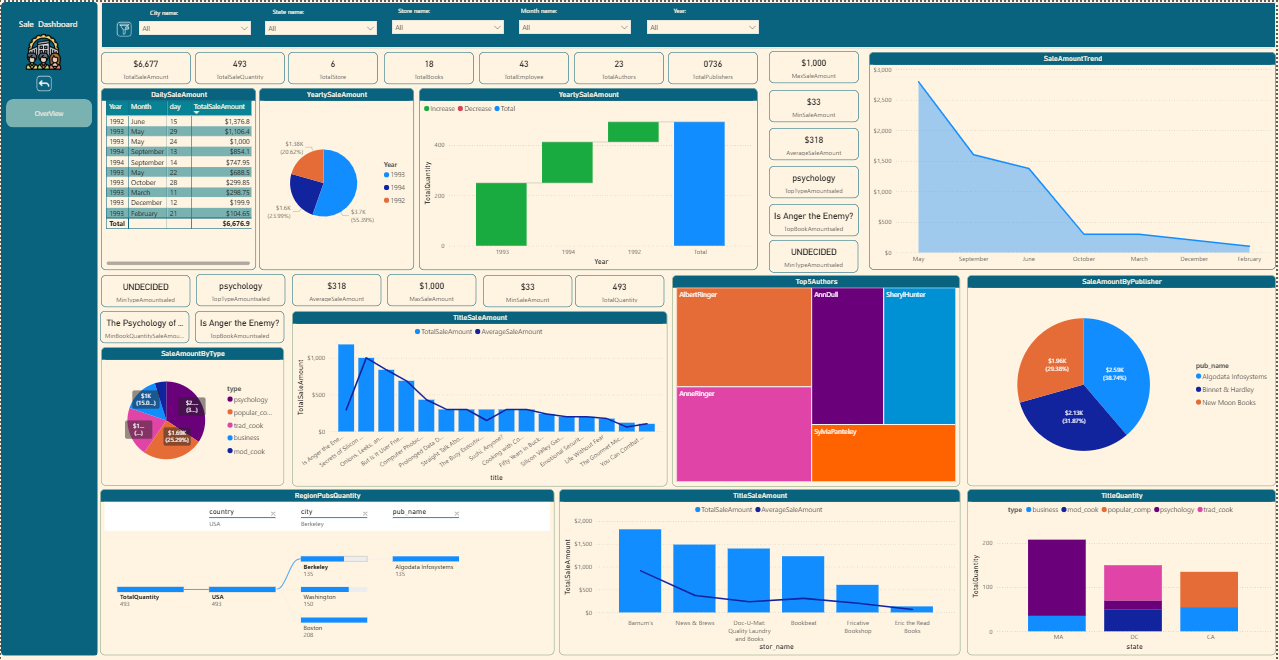

This screenshot's page, from the dashboard's own definition file:
{"tool":"powerbi","page":{"name":"OverView","canvas":[2500,1300],"ordinal":0},"visuals":[{"type":"shape","box":[196,0,2304,91],"z":0},{"type":"shape","box":[0,0,189.7,1282.1],"z":1000},{"type":"image","box":[221,34,40,40],"z":2000},{"type":"image","box":[50.6,139.8,67.5,41],"z":3000},{"type":"textbox","box":[27,27,135,52],"z":4000},{"type":"image","box":[33.7,56.6,100,81.9],"z":5000},{"type":"pageNavigator","box":[10,190,169.1,56.4],"z":6000},{"type":"textbox","box":[221,11,128,23],"z":7000},{"type":"slicer","fields":{"Values":["stores.city"]},"box":[261,28,239,39],"z":8000},{"type":"card","title":"SaleCurrentYear   SalePreviuosYear","fields":{"Values":["MeasureTable.TotalSaleAmount"]},"box":[195.6,97.8,175.6,63.3],"z":9000},{"type":"card","title":"SaleCurrentYear   SalePreviuosYear","fields":{"Values":["Sum(sales.qty)"]},"box":[380.6,97.8,175.6,63.3],"z":10000},{"type":"card","title":"SaleCurrentYear   SalePreviuosYear","fields":{"Values":["Count(authors.au_id)"]},"box":[1123.3,97.8,175.6,63.3],"z":11000},{"type":"card","title":"SaleCurrentYear   SalePreviuosYear","fields":{"Values":["Count(titles.title_id)"]},"box":[750.6,97.8,175.6,63.3],"z":12000},{"type":"card","title":"SaleCurrentYear   SalePreviuosYear","fields":{"Values":["Count(stores.stor_id)"]},"box":[563.3,97.8,175.6,63.3],"z":13000},{"type":"card","title":"SaleCurrentYear   SalePreviuosYear","fields":{"Values":["Min(publishers.pub_id)"]},"box":[1307.8,97.8,175.6,63.3],"z":14000},{"type":"card","title":"SaleCurrentYear   SalePreviuosYear","fields":{"Values":["Count(employee.emp_id)"]},"box":[936.7,97.8,175.6,63.3],"z":15000},{"type":"stackedAreaChart","title":"SaleAmountTrend","fields":{"Y":["Sum(sales.SaleAmount)"],"Category":["sales.Month"]},"box":[1701.8,98.2,798.2,427.3],"z":16000},{"type":"tableEx","title":"DailySaleAmount","fields":{"Values":["sales.Year","sales.Month","sales.day","Sum(sales.SaleAmount)"]},"box":[195.6,168.9,304.4,356.7],"z":17000},{"type":"pieChart","title":"YearlySaleAmount","fields":{"Y":["Sum(sales.SaleAmount)"],"Category":["sales.Year"]},"box":[506.7,168.9,304.4,356.7],"z":18000},{"type":"waterfallChart","title":"YearlySaleAmount","fields":{"Category":["sales.Year"],"Y":["Sum(sales.qty)"]},"box":[818.9,168.9,664.4,356.7],"z":19000},{"type":"textbox","box":[467.7,9.9,128,23],"z":20000},{"type":"slicer","fields":{"Values":["stores.state"]},"box":[507.7,26.9,239,39],"z":21000},{"type":"textbox","box":[716.6,8.8,128,23],"z":22000},{"type":"slicer","fields":{"Values":["stores.stor_name"]},"box":[756.6,25.8,239,39],"z":23000},{"type":"card","title":"SaleCurrentYear   SalePreviuosYear","fields":{"Values":["MeasureTable.MaxSaleAmount"]},"box":[1505.8,96.6,175.6,63.3],"z":24000},{"type":"card","title":"SaleCurrentYear   SalePreviuosYear","fields":{"Values":["MeasureTable.MinSaleAmount"]},"box":[1505.8,171.7,175.6,63.3],"z":25000},{"type":"card","title":"SaleCurrentYear   SalePreviuosYear","fields":{"Values":["MeasureTable.AverageSaleAmount"]},"box":[1505.8,246.8,175.6,63.3],"z":26000},{"type":"card","title":"SaleCurrentYear   SalePreviuosYear","fields":{"Values":["MeasureTable.TopTypeAmountsaled"]},"box":[1505.8,321.9,175.6,63.3],"z":27000},{"type":"card","title":"SaleCurrentYear   SalePreviuosYear","fields":{"Values":["MeasureTable.TopBookAmountsaled"]},"box":[1505.8,397,175.6,63.3],"z":28000},{"type":"card","title":"SaleCurrentYear   SalePreviuosYear","fields":{"Values":["MeasureTable.MinTypeAmountsaled"]},"box":[1505.5,467.3,175.5,63.6],"z":29000},{"type":"textbox","box":[965.6,7.8,128,23],"z":29001},{"type":"slicer","fields":{"Values":["sales.Month"]},"box":[1005.6,24.8,239,39],"z":29002},{"type":"textbox","box":[1217.6,7.8,128,23],"z":29003},{"type":"slicer","fields":{"Values":["sales.Year"]},"box":[1257.6,24.8,239,39],"z":29004},{"type":"pieChart","title":"SaleAmountByType","fields":{"Y":["MeasureTable.TotalSaleAmount"],"Category":["titles.type"]},"box":[195.5,677.3,359.1,271.8],"z":29005},{"type":"lineStackedColumnComboChart","title":"TitleSaleAmount","fields":{"Category":["titles.title"],"Y2":["MeasureTable.AverageSaleAmount"],"Y":["MeasureTable.TotalSaleAmount"]},"box":[570.9,605.5,736.4,343.6],"z":29006},{"type":"card","title":"SaleCurrentYear   SalePreviuosYear","fields":{"Values":["MeasureTable.TopBookAmountsaled"]},"box":[379.8,605.3,175,63],"z":29007},{"type":"card","title":"SaleCurrentYear   SalePreviuosYear","fields":{"Values":["MeasureTable.MinBookQuantityMax"]},"box":[194.8,605.3,175,63],"z":29008},{"type":"card","title":"SaleCurrentYear   SalePreviuosYear","fields":{"Values":["MeasureTable.AverageSaleAmount"]},"box":[570.2,534.3,175,63],"z":29009},{"type":"card","title":"SaleCurrentYear   SalePreviuosYear","fields":{"Values":["MeasureTable.MaxSaleAmount"]},"box":[757.3,534.3,175,63],"z":29010},{"type":"card","title":"SaleCurrentYear   SalePreviuosYear","fields":{"Values":["MeasureTable.MinSaleAmount"]},"box":[944.5,535.3,175,63],"z":29011},{"type":"card","title":"SaleCurrentYear   SalePreviuosYear","fields":{"Values":["MeasureTable.TotalQuantity"]},"box":[1125.5,535.5,174.5,62.7],"z":29013},{"type":"card","title":"SaleCurrentYear   SalePreviuosYear","fields":{"Values":["MeasureTable.TopTypeAmountsaled"]},"box":[195.8,535.3,175,63],"z":29014},{"type":"card","title":"SaleCurrentYear   SalePreviuosYear","fields":{"Values":["MeasureTable.TopTypeAmountsaled"]},"box":[383,534.3,175,63],"z":29015},{"type":"treemap","title":"Top5Authors","fields":{"Values":["Sum(sales.SaleAmount)"],"Group":["authors.FullName"]},"box":[1315.5,534.5,565.5,414.5],"z":29018},{"type":"pieChart","title":"SaleAmountByPublisher","fields":{"Y":["MeasureTable.TotalSaleAmount"],"Category":["publishers.pub_name"]},"box":[1893.6,535.5,606.4,413.6],"z":29019},{"type":"lineStackedColumnComboChart","title":"TitleSaleAmount","fields":{"Category":["stores.stor_name"],"Y2":["MeasureTable.AverageSaleAmount"],"Y":["MeasureTable.TotalSaleAmount"]},"box":[1093.6,955.5,787.3,326.4],"z":29020},{"type":"decompositionTreeVisual","title":"RegionPubsQuantity","fields":{"Analyze":["MeasureTable.TotalQuantity"],"ExplainBy":["publishers.country","publishers.city","publishers.pub_name"]},"box":[194.5,955.5,890.9,326.4],"z":29021},{"type":"lineStackedColumnComboChart","title":"TitleQuantity","fields":{"Y":["MeasureTable.TotalQuantity"],"Category":["publishers.state"],"Series":["titles.type"]},"box":[1893.6,955.5,606.4,326.4],"z":29022}]}

Visuals, with their boxes in screenshot pixels (x1, y1, x2, y2):
shape: crop(95, 0, 1278, 44)
shape: crop(0, 0, 92, 659)
image: crop(108, 14, 129, 35)
image: crop(20, 69, 55, 90)
textbox: crop(7, 11, 77, 38)
image: crop(11, 26, 63, 69)
pageNavigator: crop(0, 95, 86, 124)
textbox: crop(108, 2, 174, 14)
slicer - stores.city: crop(129, 11, 253, 31)
"SaleCurrentYear   SalePreviuosYear" card: crop(95, 47, 186, 80)
"SaleCurrentYear   SalePreviuosYear" card: crop(191, 47, 282, 80)
"SaleCurrentYear   SalePreviuosYear" card: crop(576, 47, 667, 80)
"SaleCurrentYear   SalePreviuosYear" card: crop(383, 47, 474, 80)
"SaleCurrentYear   SalePreviuosYear" card: crop(286, 47, 377, 80)
"SaleCurrentYear   SalePreviuosYear" card: crop(672, 47, 763, 80)
"SaleCurrentYear   SalePreviuosYear" card: crop(479, 47, 570, 80)
"SaleAmountTrend" stackedAreaChart: crop(876, 48, 1278, 269)
"DailySaleAmount" tableEx: crop(95, 84, 253, 269)
"YearlySaleAmount" pieChart: crop(256, 84, 414, 269)
"YearlySaleAmount" waterfallChart: crop(418, 84, 763, 269)
textbox: crop(236, 2, 302, 14)
slicer - stores.state: crop(257, 11, 381, 31)
textbox: crop(365, 1, 431, 13)
slicer - stores.stor_name: crop(386, 10, 510, 30)
"SaleCurrentYear   SalePreviuosYear" card: crop(774, 47, 865, 80)
"SaleCurrentYear   SalePreviuosYear" card: crop(774, 86, 865, 119)
"SaleCurrentYear   SalePreviuosYear" card: crop(774, 125, 865, 158)
"SaleCurrentYear   SalePreviuosYear" card: crop(774, 164, 865, 196)
"SaleCurrentYear   SalePreviuosYear" card: crop(774, 203, 865, 235)
"SaleCurrentYear   SalePreviuosYear" card: crop(774, 239, 865, 272)
textbox: crop(494, 1, 561, 13)
slicer - sales.Month: crop(515, 10, 639, 30)
textbox: crop(625, 1, 691, 13)
slicer - sales.Year: crop(646, 10, 770, 30)
"SaleAmountByType" pieChart: crop(95, 348, 281, 489)
"TitleSaleAmount" lineStackedColumnComboChart: crop(289, 311, 671, 489)
"SaleCurrentYear   SalePreviuosYear" card: crop(190, 311, 281, 343)
"SaleCurrentYear   SalePreviuosYear" card: crop(94, 311, 185, 343)
"SaleCurrentYear   SalePreviuosYear" card: crop(289, 274, 380, 306)
"SaleCurrentYear   SalePreviuosYear" card: crop(386, 274, 477, 306)
"SaleCurrentYear   SalePreviuosYear" card: crop(483, 274, 574, 307)
"SaleCurrentYear   SalePreviuosYear" card: crop(577, 274, 668, 307)
"SaleCurrentYear   SalePreviuosYear" card: crop(95, 274, 186, 307)
"SaleCurrentYear   SalePreviuosYear" card: crop(192, 274, 283, 306)
"Top5Authors" treemap: crop(676, 274, 969, 489)
"SaleAmountByPublisher" pieChart: crop(975, 274, 1278, 489)
"TitleSaleAmount" lineStackedColumnComboChart: crop(561, 492, 969, 659)
"RegionPubsQuantity" decompositionTreeVisual: crop(94, 492, 556, 659)
"TitleQuantity" lineStackedColumnComboChart: crop(975, 492, 1278, 659)
